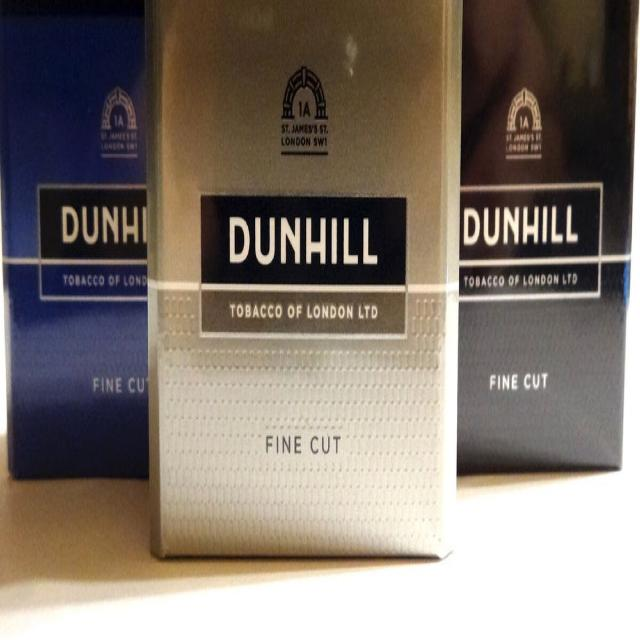dunhill: (150, 1, 459, 570), (458, 2, 635, 470), (0, 0, 151, 488)
